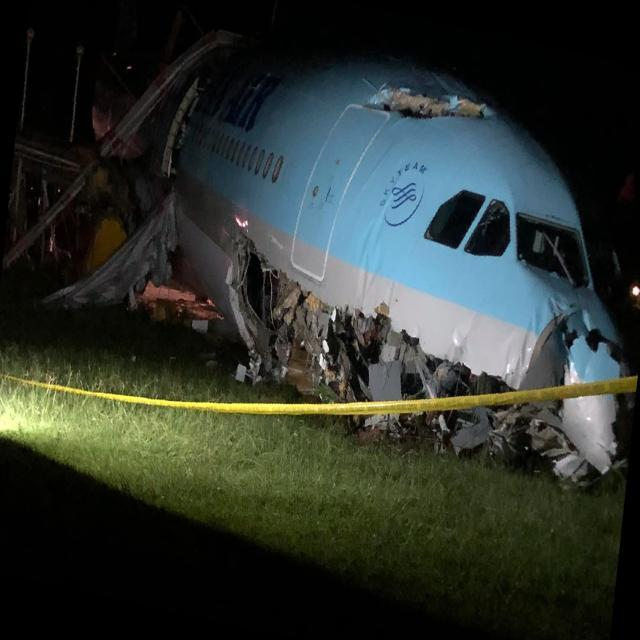crack: (361, 84, 496, 128)
